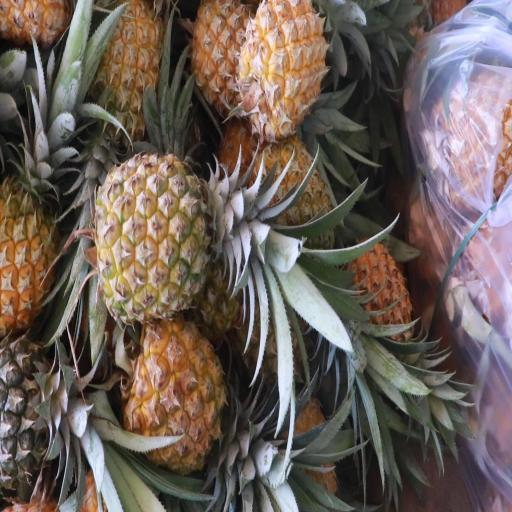------------------------------: (92, 153, 282, 323)
Pineapple - v8 v1: (115, 318, 276, 481), (0, 90, 73, 349), (235, 0, 339, 140), (90, 1, 166, 143), (194, 1, 258, 118)
